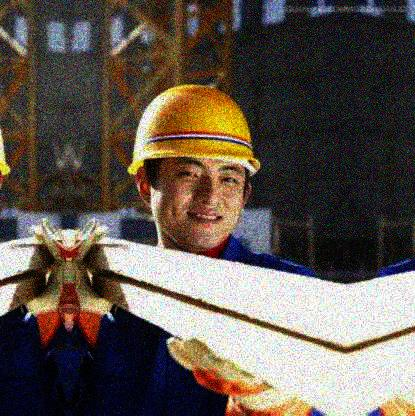helmet: (120, 82, 262, 250)
